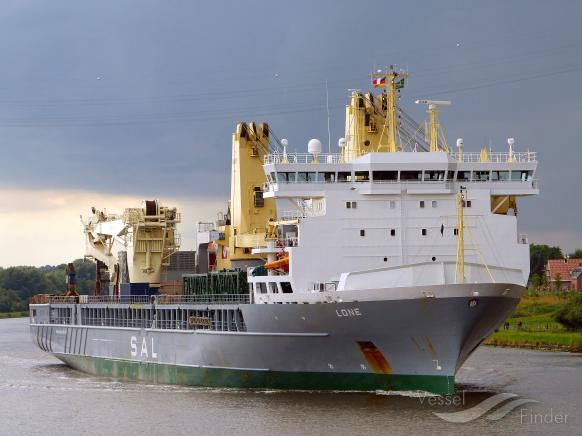OCR: (124, 330, 164, 362), (332, 305, 364, 323)
